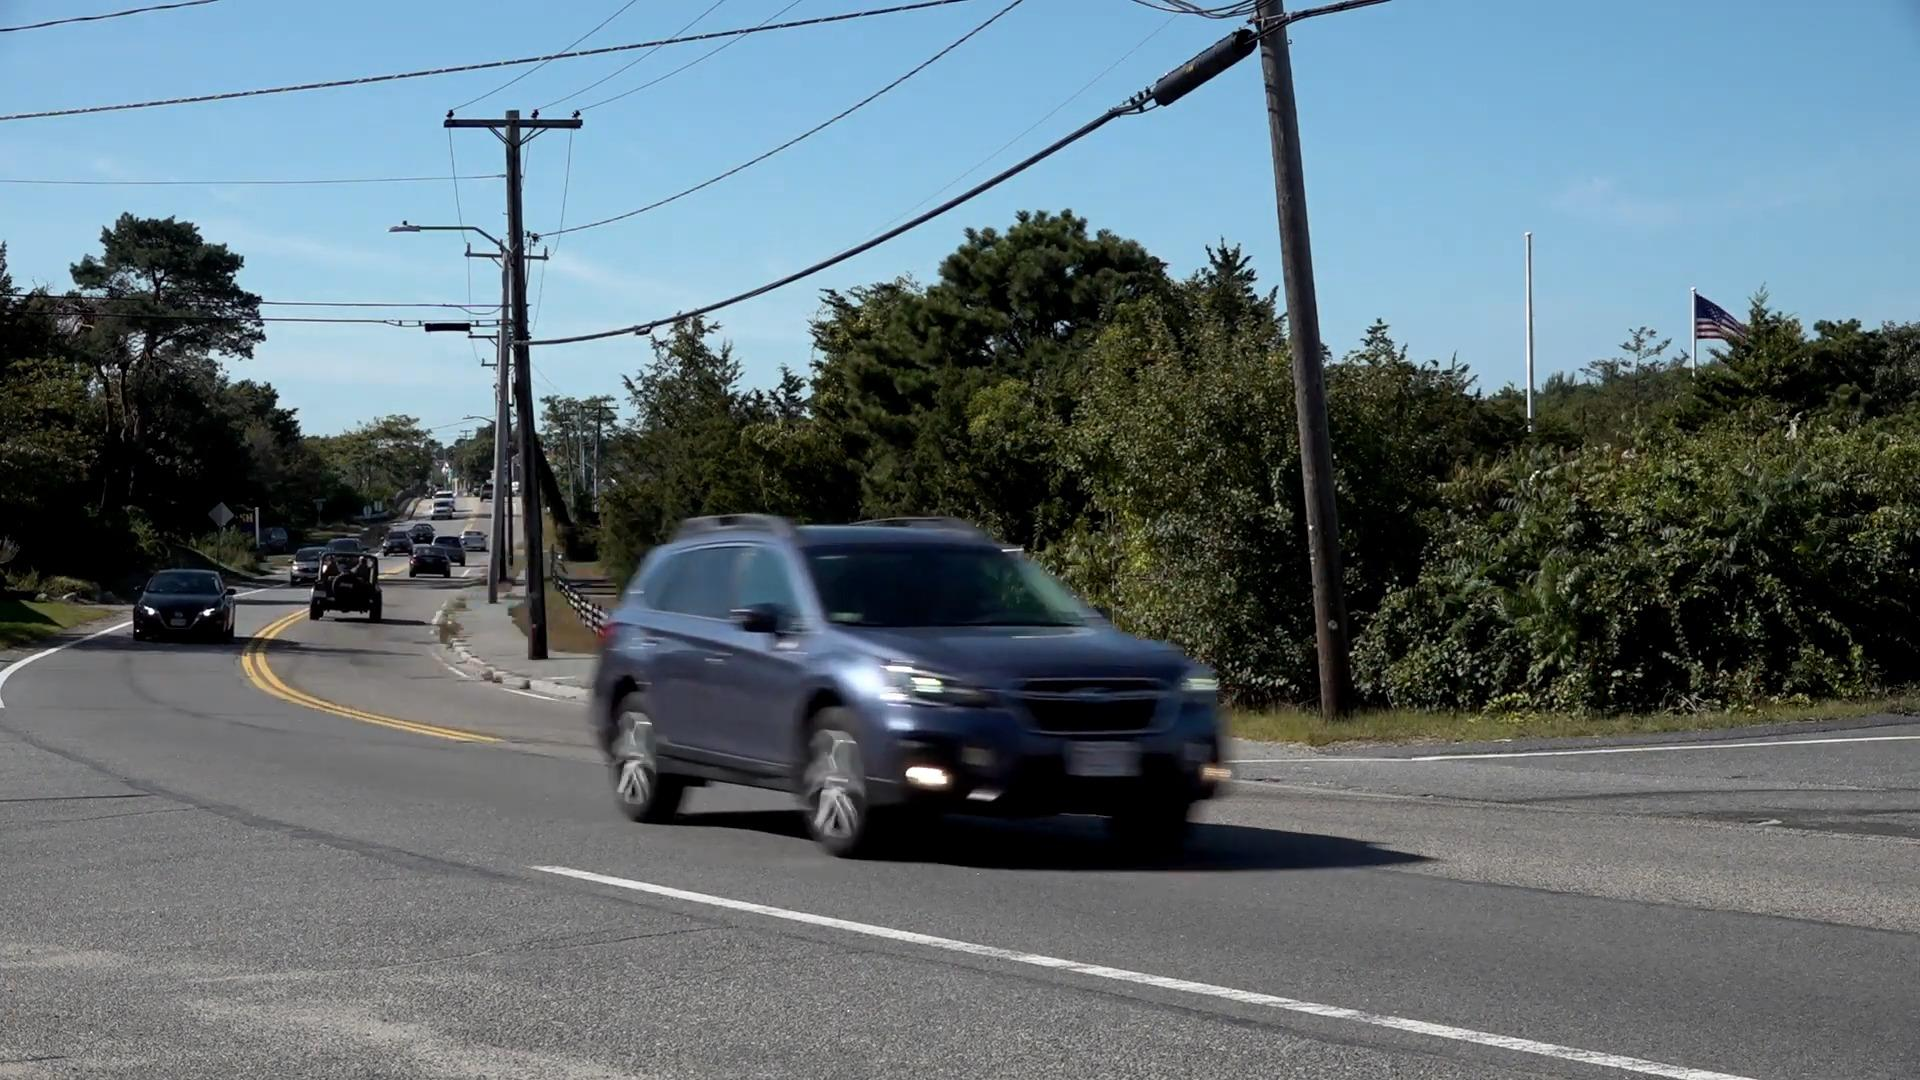sedans: (135, 571, 236, 647)
suv: (597, 517, 1238, 856), (311, 555, 382, 625)
